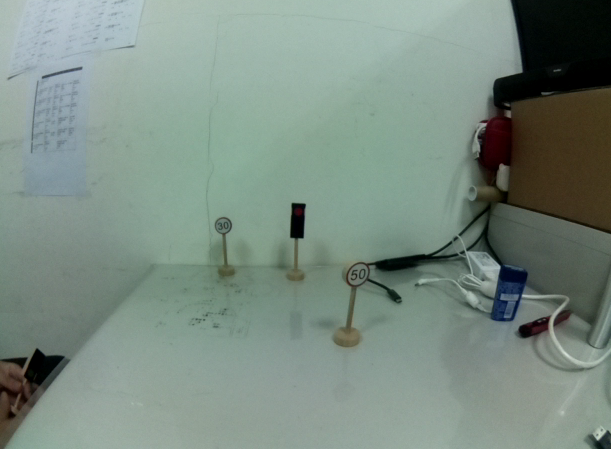Red: (288, 199, 307, 241)
Speed30: (212, 215, 233, 237)
Speed50: (342, 261, 371, 290)
